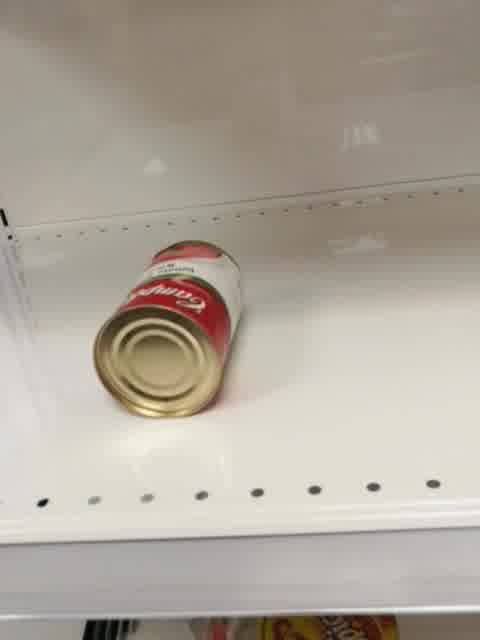tomatosoup: (92, 238, 244, 419)
